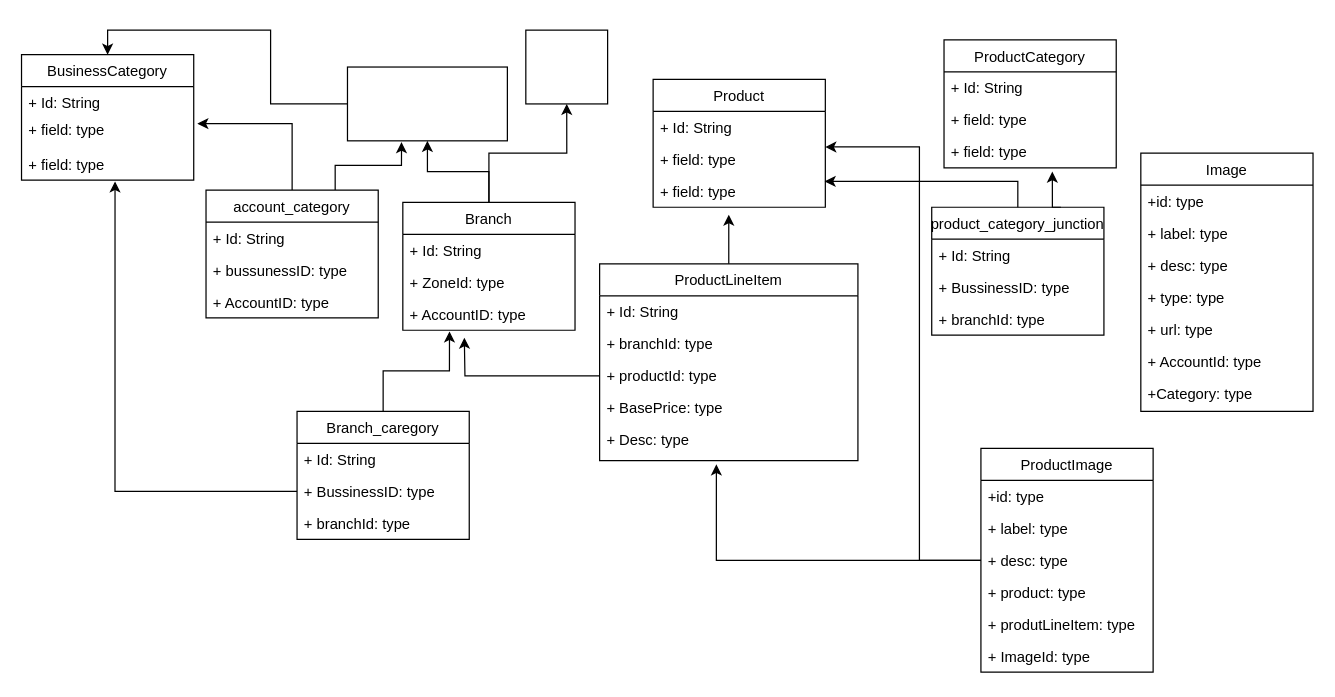
The diagram is 1335 pixels wide and 697 high, and some of its shapes have lost their labels. The shapes that lost their labels are listed below. From the top down, each one's centre as x and y in pixels, then its label:
At [566,66]: "ZONE".
At [426,103]: "Account/company".
